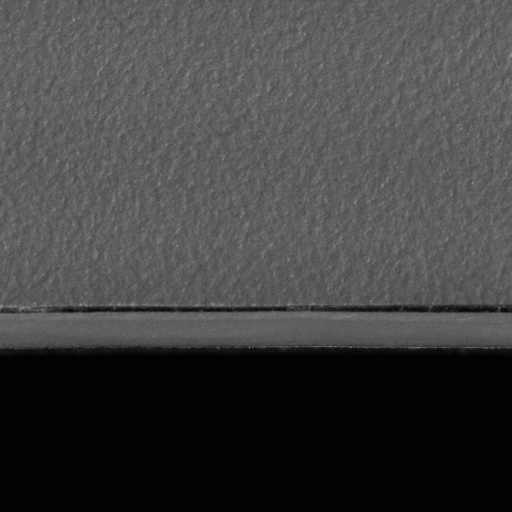jiaofeng: (0, 303, 511, 328)
